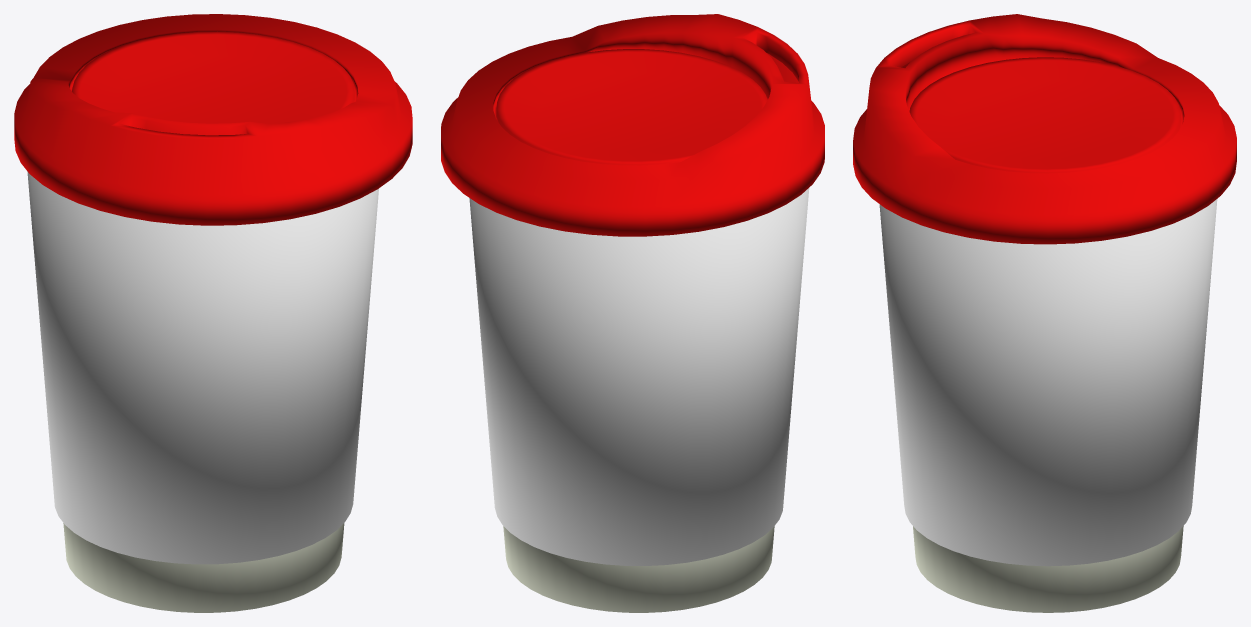
File: cup1.glb
The picture shows the model from 3 angles, left to right: view 1: azimuth 30°, elevation 25°; view 2: azimuth 150°, elevation 25°; view 3: azimuth 270°, elevation 25°; orthographic projection. The views are drawn at different scales.
Parts seen in each view (by area): view 1: cup, red+cup; view 2: cup, red+cup; view 3: cup, red+cup.
Boxes of the visible parts, x1,y1,x2,y2 form: cup: (27, 171, 378, 612); red+cup: (14, 14, 412, 225); cup: (469, 188, 809, 612); red+cup: (441, 14, 824, 236); cup: (879, 199, 1217, 612); red+cup: (853, 14, 1236, 244).
Size of the model in its own units: 0.1258 by 0.1712 by 0.1258.
